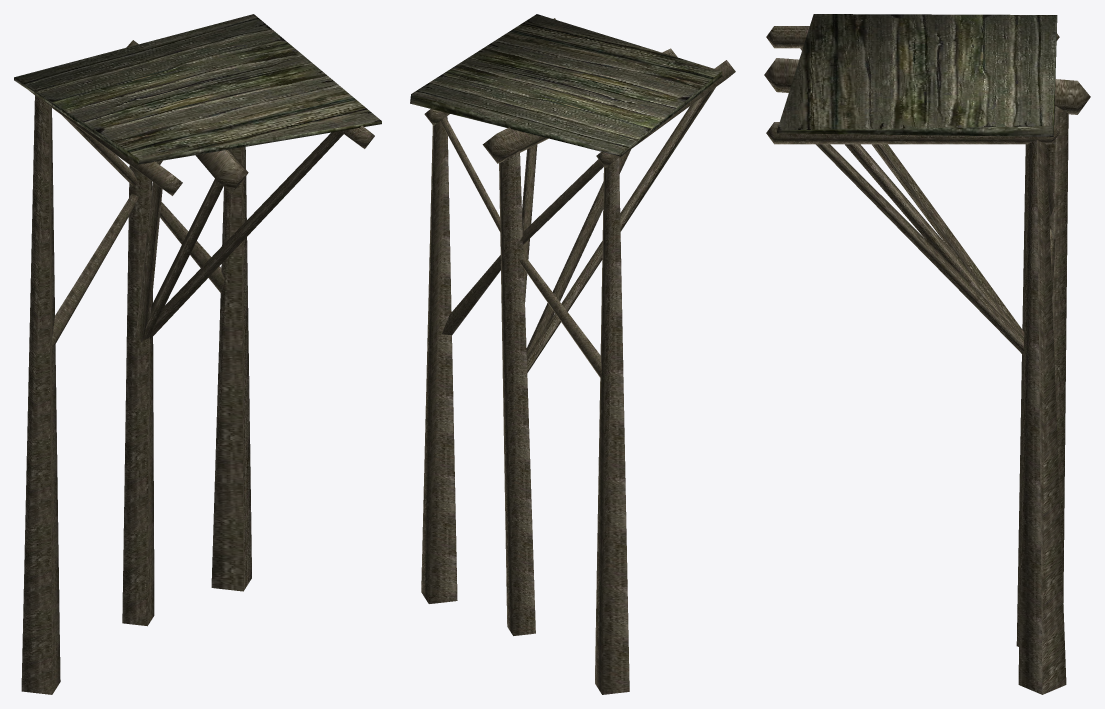
Rendered from MIN_LOB_WORKPLANK_5X7M.glb.
3 views of the same model, side by side, from view 1: azimuth 30°, elevation 25°; view 2: azimuth 150°, elevation 25°; view 3: azimuth 270°, elevation 25° (orthographic). The views are drawn at different scales.
Visible parts, largest first — view 1: Mesh; view 2: Mesh; view 3: Mesh.
Part boxes in pixels (bbox=[...]): Mesh: bbox=[14, 14, 381, 694]; Mesh: bbox=[410, 14, 735, 694]; Mesh: bbox=[764, 14, 1090, 694].
Bounding box in the file's own units: 5.96 × 14.65 × 6.89.
Materials: 2 (2 with a texture image).
